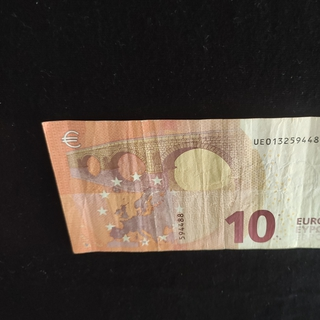10EUROBack: (41, 115, 320, 253)
